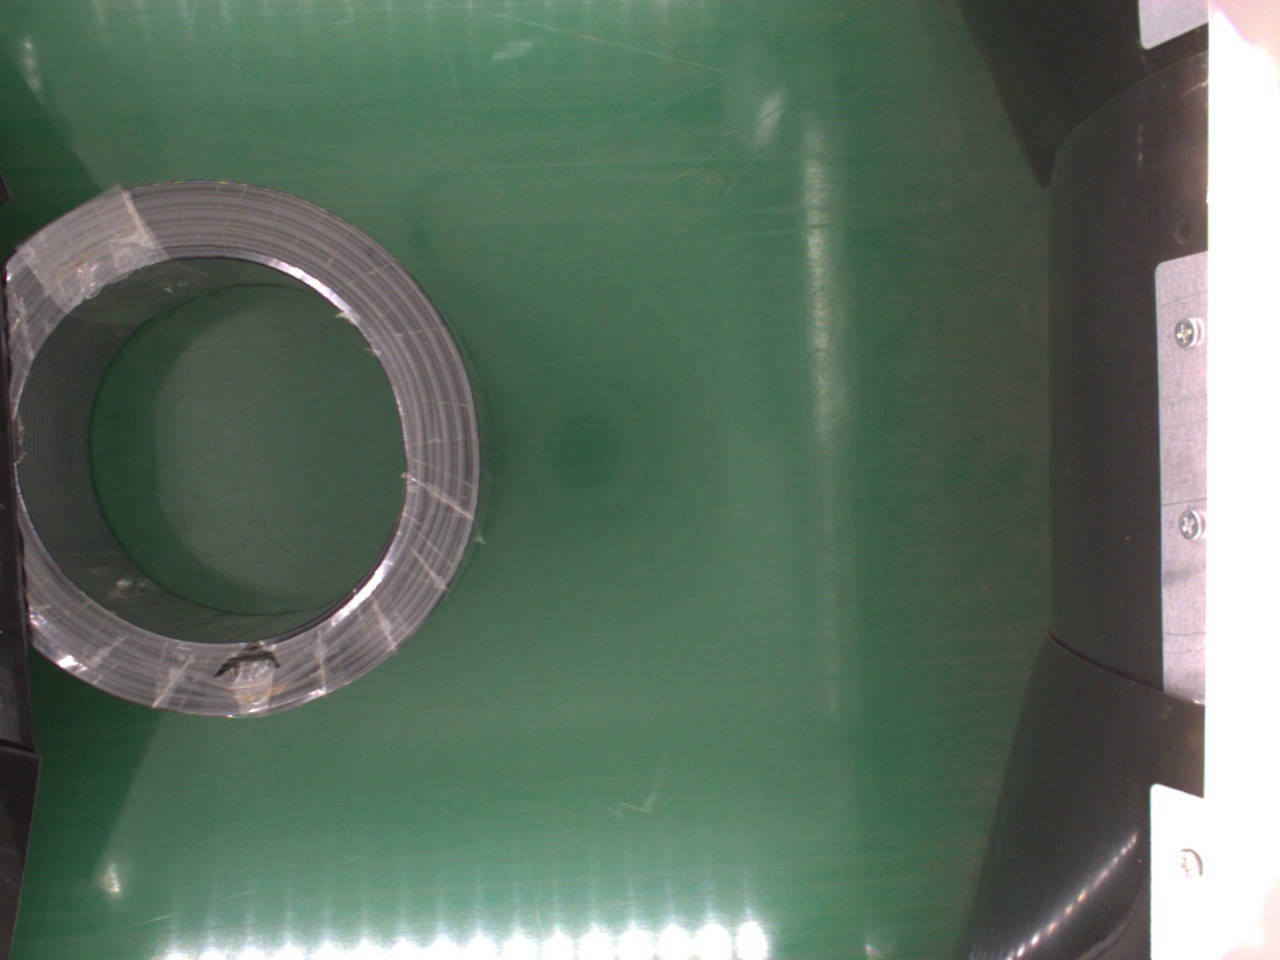black: (12, 177, 485, 728)
